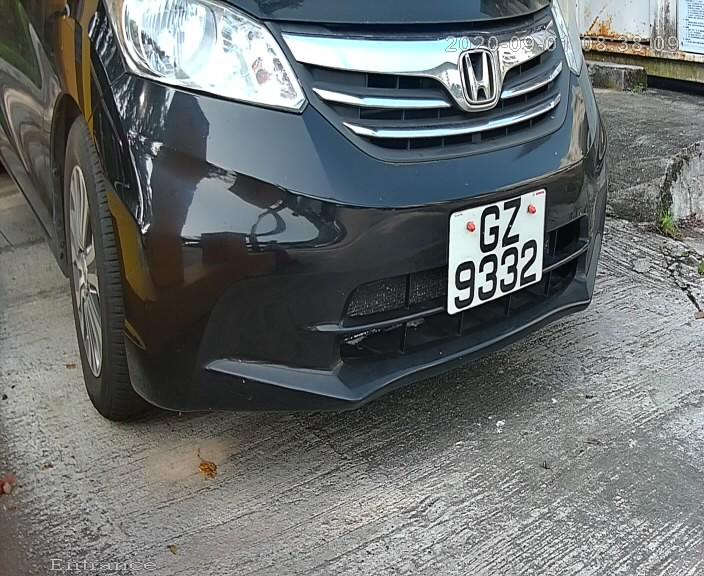License Plate: (437, 188, 551, 317)
